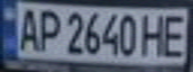0: (118, 11, 142, 56)
2: (63, 8, 84, 55)
4: (100, 10, 121, 56)
6: (81, 9, 103, 55)
A: (12, 4, 42, 52)
E: (157, 10, 193, 58)
H: (139, 11, 169, 57)
P: (33, 6, 63, 53)
